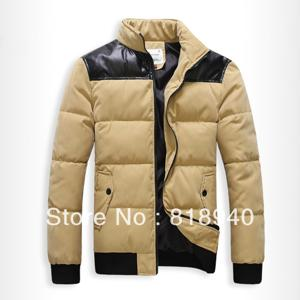C_jacket: (35, 15, 270, 289)
